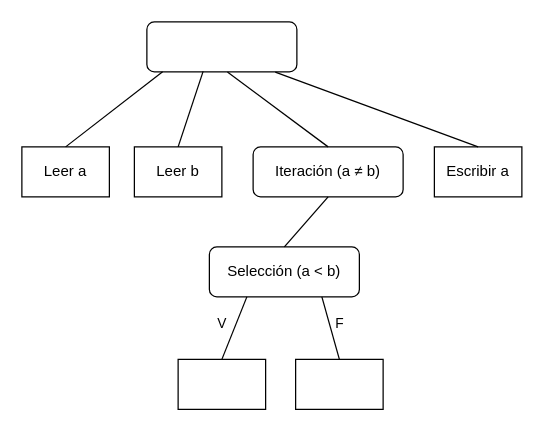
Image size: 544x431. Some labels were removed from this diagram. The centre of each missing label's shape, as x and y in pixels:
a ⟵ a - b: point (338, 383)
b ⟵ b - a: point (221, 383)
Bloque: point (221, 46)
